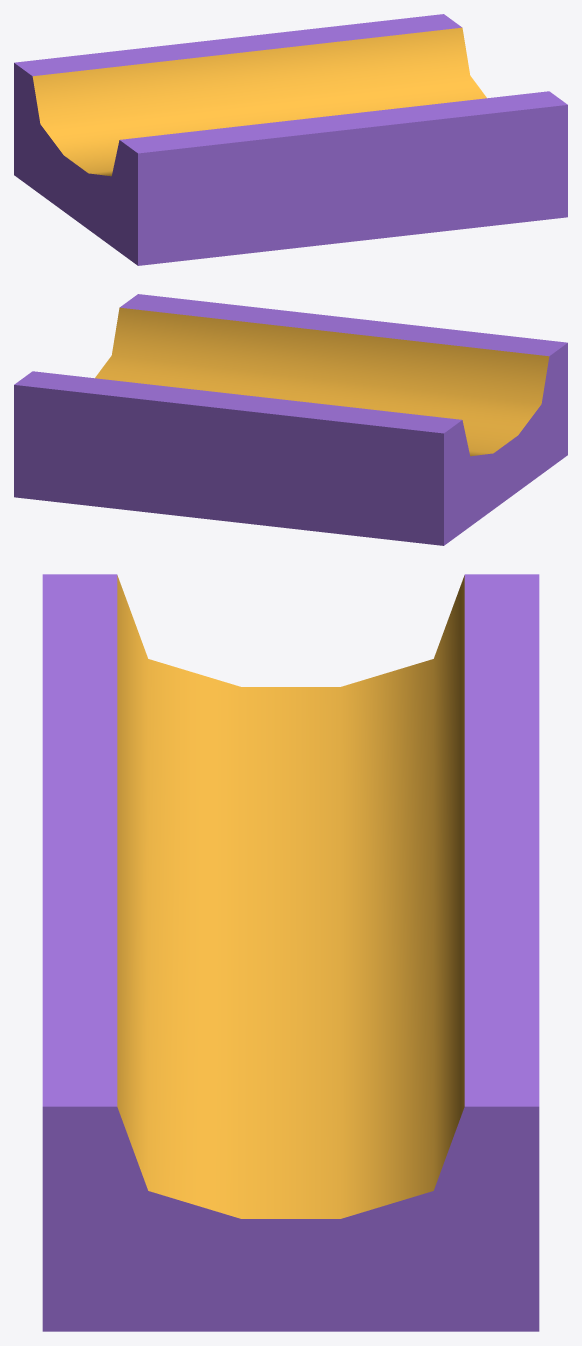
Rendered from slant-long-a-col.glb.
3 renders of one model, top to bottom at view 1: azimuth 30°, elevation 25°; view 2: azimuth 150°, elevation 25°; view 3: azimuth 270°, elevation 25°, orthographic. The views are drawn at different scales.
Parts seen in each view (by area): view 1: slant-long-a-col; view 2: slant-long-a-col; view 3: slant-long-a-col.
Part boxes in pixels (x1,y1,x2,y2): slant-long-a-col: (14,14,567,265); slant-long-a-col: (14,294,567,545); slant-long-a-col: (42,574,539,1331).
Bounding box in the file's own units: 2 × 0.75 × 1.
1 material, 1 textured.
